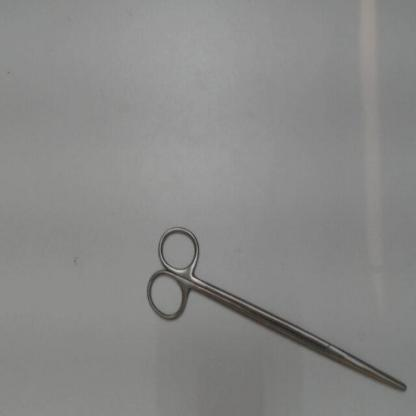9 Metzenbaum Scissors: (140, 218, 409, 395)
